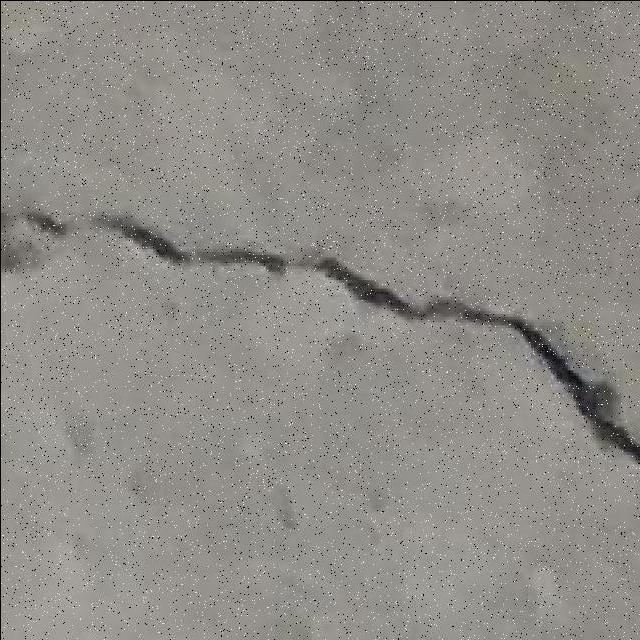Crack: (24, 203, 639, 466)
